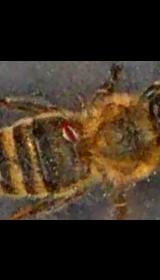varroa_mite: (60, 120, 78, 146)
